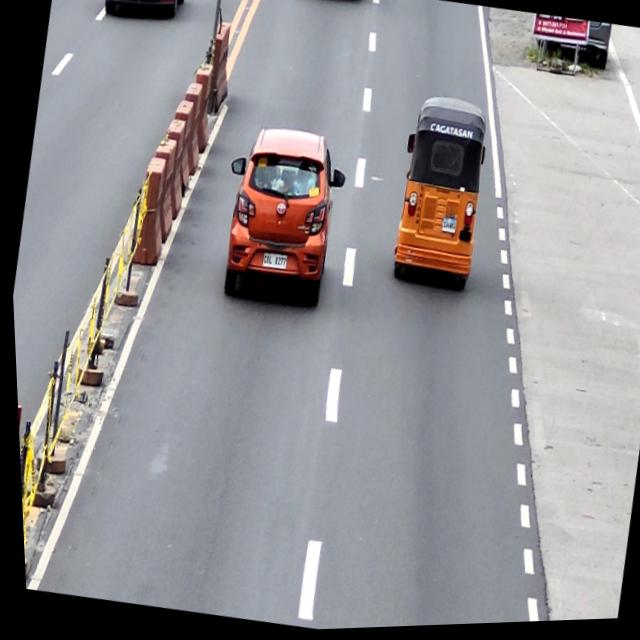Car: (206, 120, 355, 314)
E-bike: (379, 93, 497, 297)
License-Plate: (258, 253, 285, 273), (438, 220, 455, 238)
